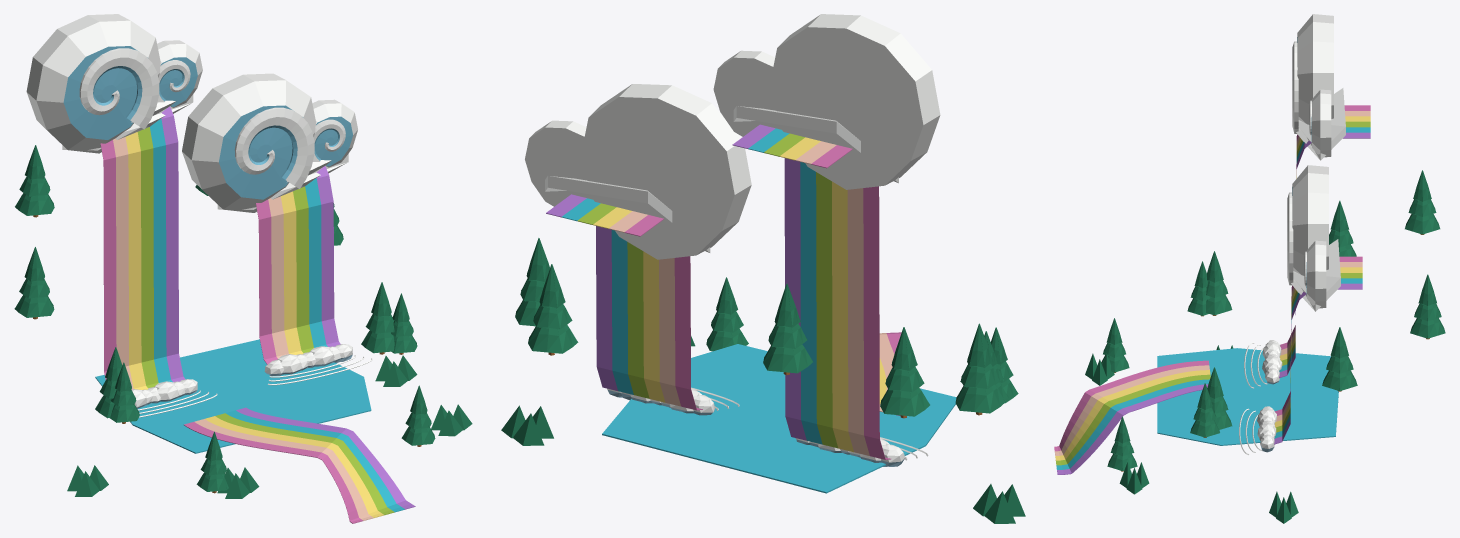
The model's file is decoration.glb.
The picture shows the model from 3 angles, left to right: view 1: azimuth 30°, elevation 25°; view 2: azimuth 150°, elevation 25°; view 3: azimuth 270°, elevation 25°; orthographic projection. The views are drawn at different scales.
Visible parts, largest first — view 1: 15_R3B_Falls_ContinuousRainbowAndPool, 15_R3B_Falls_FoldedWhiteCloudCrowns, 15_R3B_Falls_LayeredBanksAndPines; view 2: 15_R3B_Falls_ContinuousRainbowAndPool, 15_R3B_Falls_FoldedWhiteCloudCrowns, 15_R3B_Falls_LayeredBanksAndPines; view 3: 15_R3B_Falls_ContinuousRainbowAndPool, 15_R3B_Falls_FoldedWhiteCloudCrowns, 15_R3B_Falls_LayeredBanksAndPines.
Boxes of the visible parts, <box> form: 15_R3B_Falls_ContinuousRainbowAndPool: <box>95,106,415,523</box>; 15_R3B_Falls_FoldedWhiteCloudCrowns: <box>26,14,357,408</box>; 15_R3B_Falls_LayeredBanksAndPines: <box>14,145,472,498</box>; 15_R3B_Falls_ContinuousRainbowAndPool: <box>546,124,956,493</box>; 15_R3B_Falls_FoldedWhiteCloudCrowns: <box>525,14,940,466</box>; 15_R3B_Falls_LayeredBanksAndPines: <box>501,238,1025,523</box>; 15_R3B_Falls_ContinuousRainbowAndPool: <box>1054,105,1370,474</box>; 15_R3B_Falls_FoldedWhiteCloudCrowns: <box>1257,14,1345,452</box>; 15_R3B_Falls_LayeredBanksAndPines: <box>1085,170,1445,523</box>.
Bounding box in the file's own units: 1.47 × 1.56 × 1.47.
